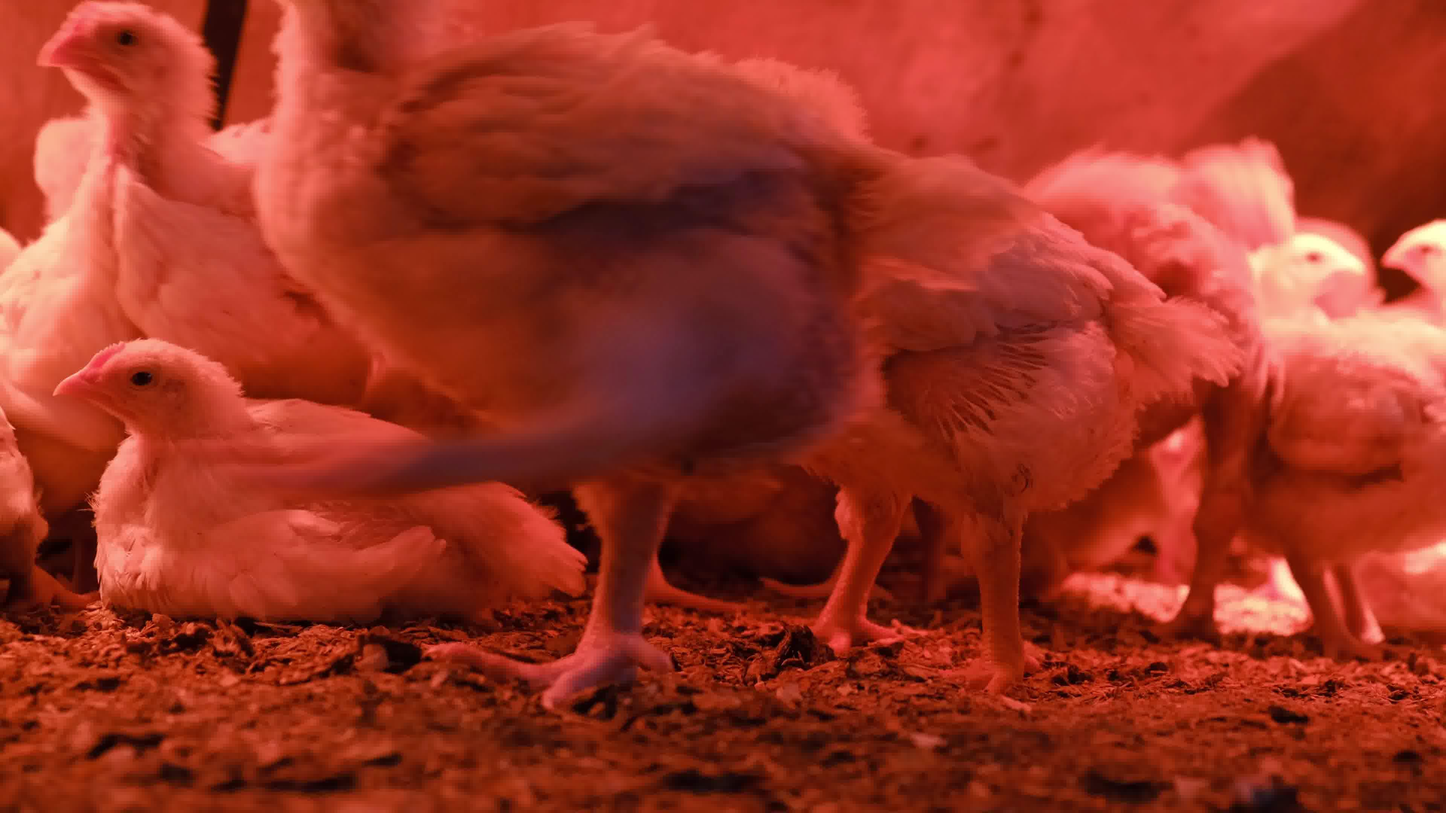AbNormal: (55, 333, 599, 638), (0, 230, 100, 647)
Normal: (250, 9, 859, 676), (864, 169, 1207, 681), (1149, 248, 1446, 661), (11, 0, 348, 288), (19, 81, 156, 247), (1250, 222, 1410, 337), (1359, 177, 1446, 348)
